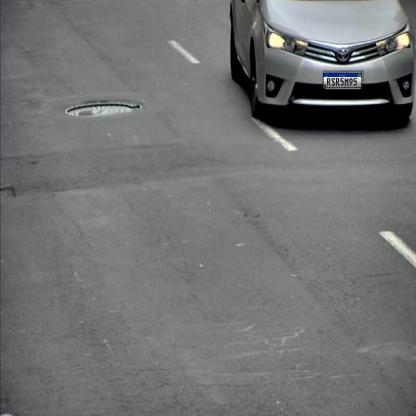PlacaM: (323, 73, 362, 88)
